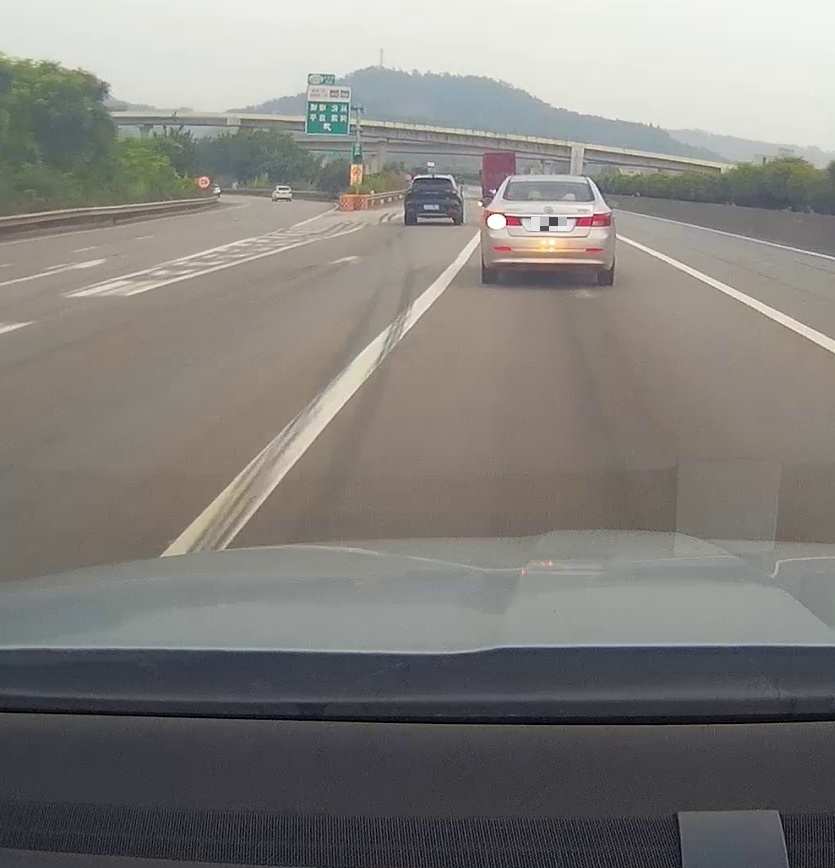L_light: (486, 212, 523, 230), (406, 197, 416, 204)
R_light: (575, 213, 610, 226), (447, 196, 458, 203)
T_light: (540, 179, 558, 184), (429, 176, 437, 179)
day-no: (485, 175, 612, 285), (405, 175, 461, 226)
plate_1: (531, 217, 567, 231)
